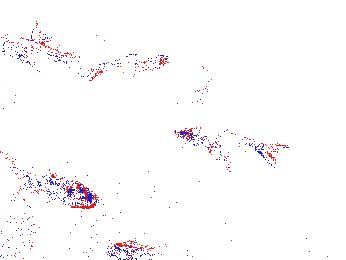red belly glassfish: (106, 240, 157, 260)
redtail glassfish: (176, 126, 289, 171), (1, 33, 87, 79), (82, 51, 172, 83)
